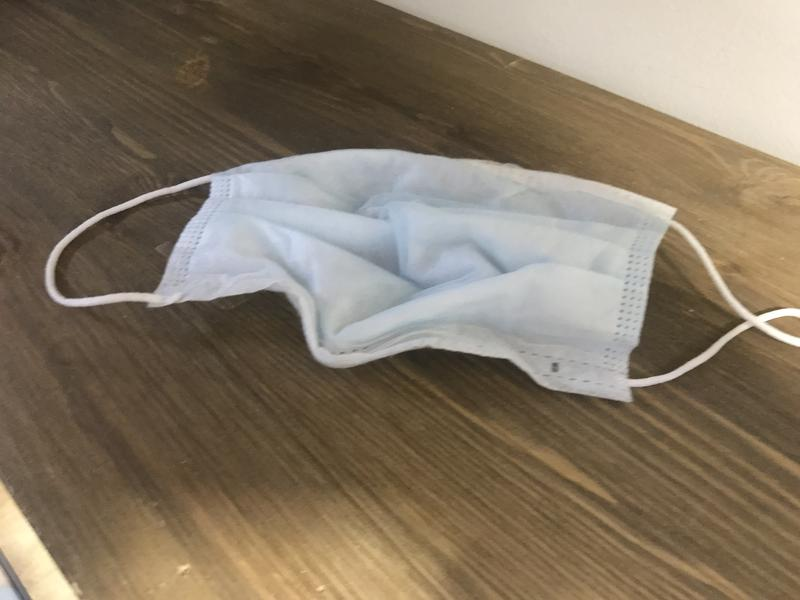medical_mask: (44, 148, 800, 394)
